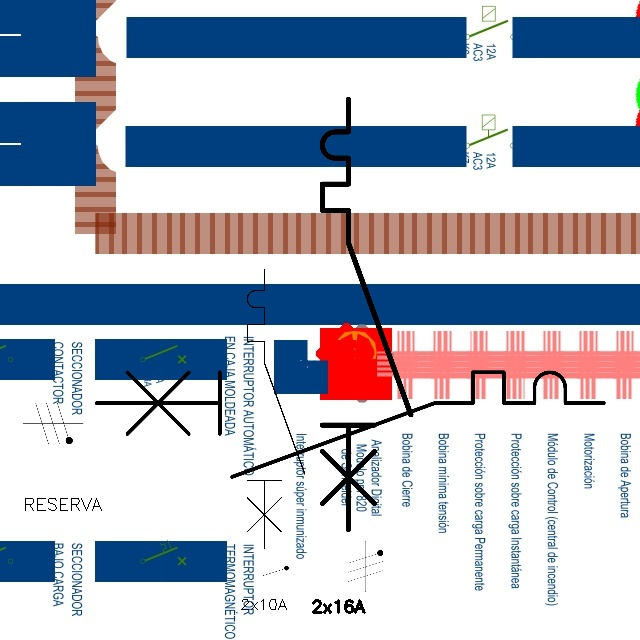interruptor_termomagnetico: (83, 359, 617, 489), (311, 88, 422, 541), (240, 262, 312, 556)
